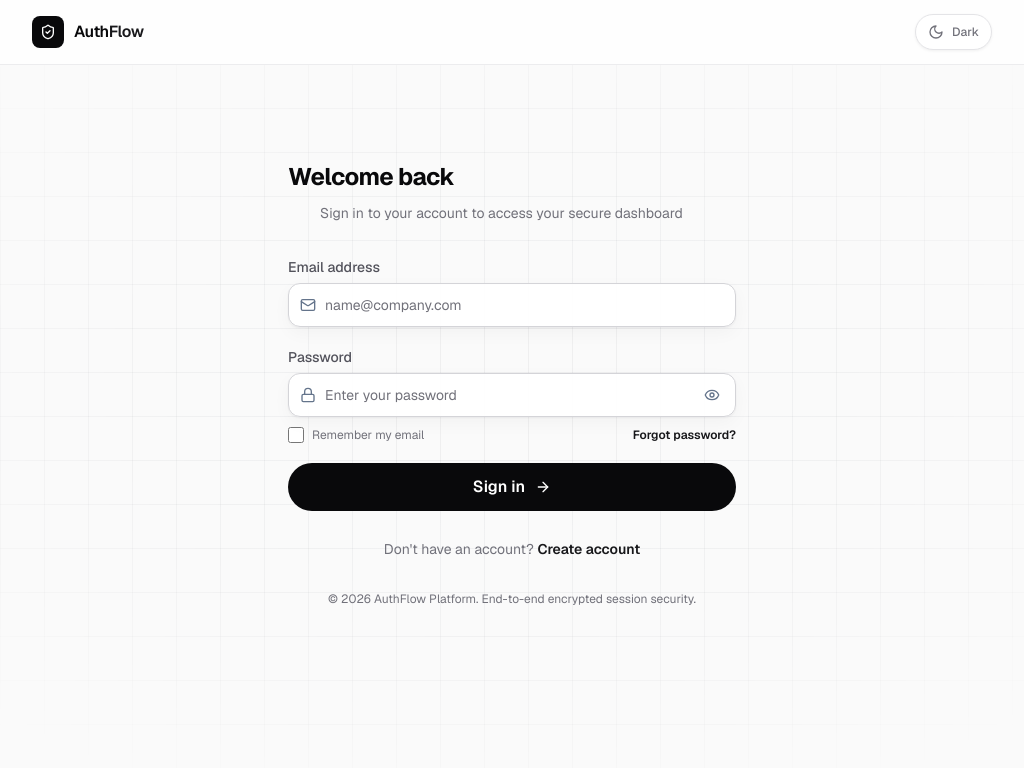
Scenario: Form Validation Tests › Login Form Validation › displays error for invalid email format
Type "notanemail" into the field labelled "Email address" at (512, 305), box [288,283,736,327]
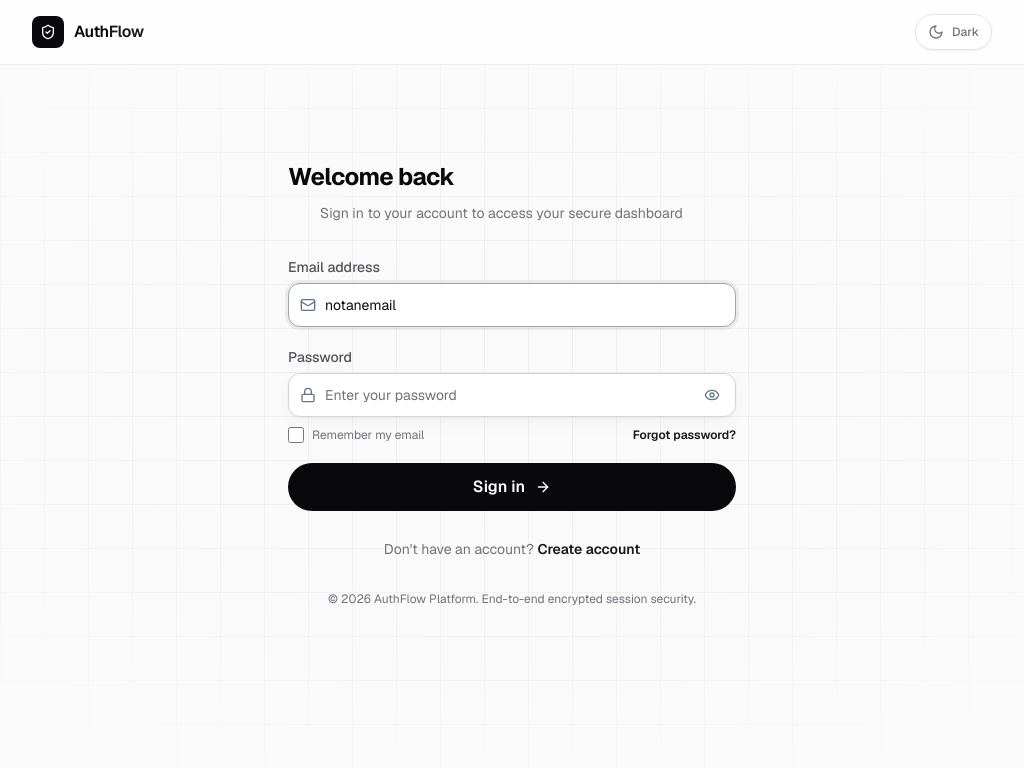
Click the button "Sign in" at (512, 487), box [288,463,736,511]
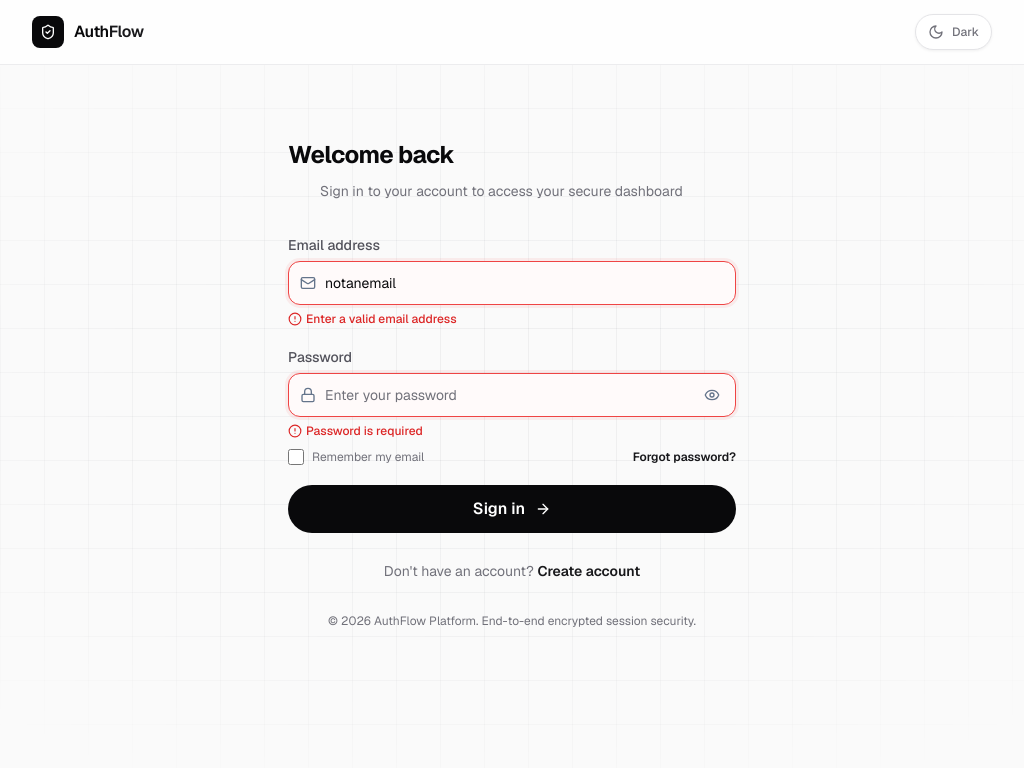
expect the text "Enter a valid email address" is shown: met, box [306,311,457,327]
